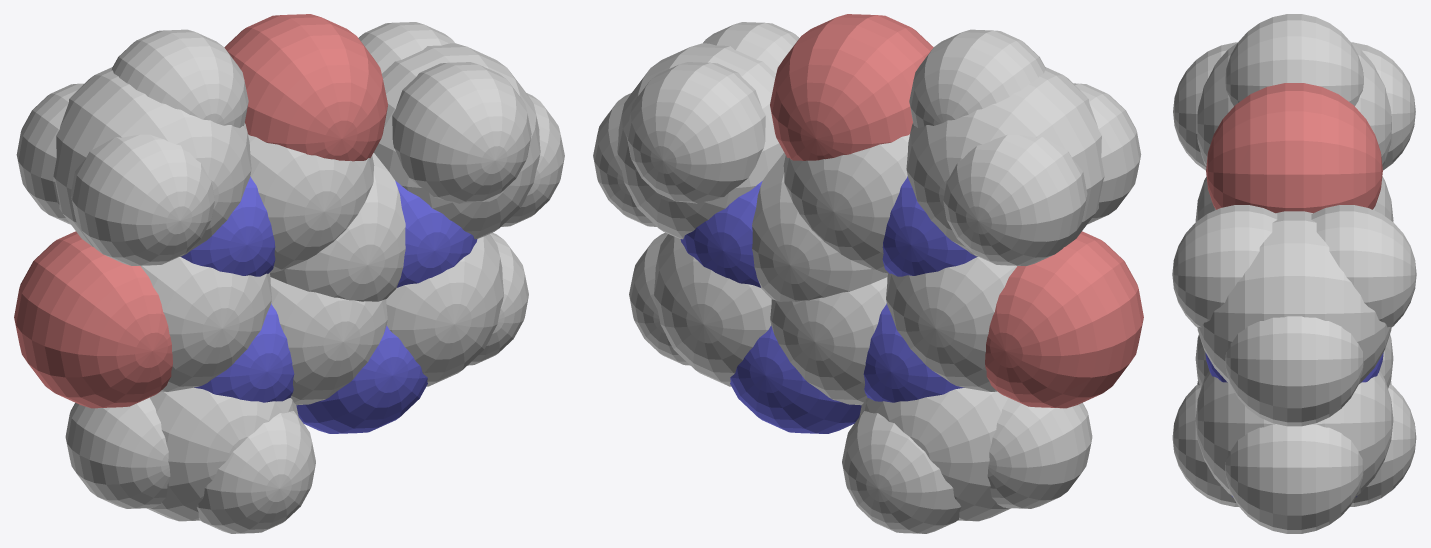
The model's file is caffeine__spheres__default.glb.
The picture shows the model from 3 angles, left to right: view 1: azimuth 30°, elevation 25°; view 2: azimuth 150°, elevation 25°; view 3: azimuth 270°, elevation 25°; orthographic projection. The views are drawn at different scales.
Parts seen in each view (by area): view 1: Renderer Node; view 2: Renderer Node; view 3: Renderer Node.
Boxes of the visible parts, x1,y1,x2,y2 form: Renderer Node: [14, 14, 564, 533]; Renderer Node: [593, 14, 1143, 533]; Renderer Node: [1172, 14, 1416, 533].
Bounding box in the file's own units: 10.03 × 8.75 × 4.2.
